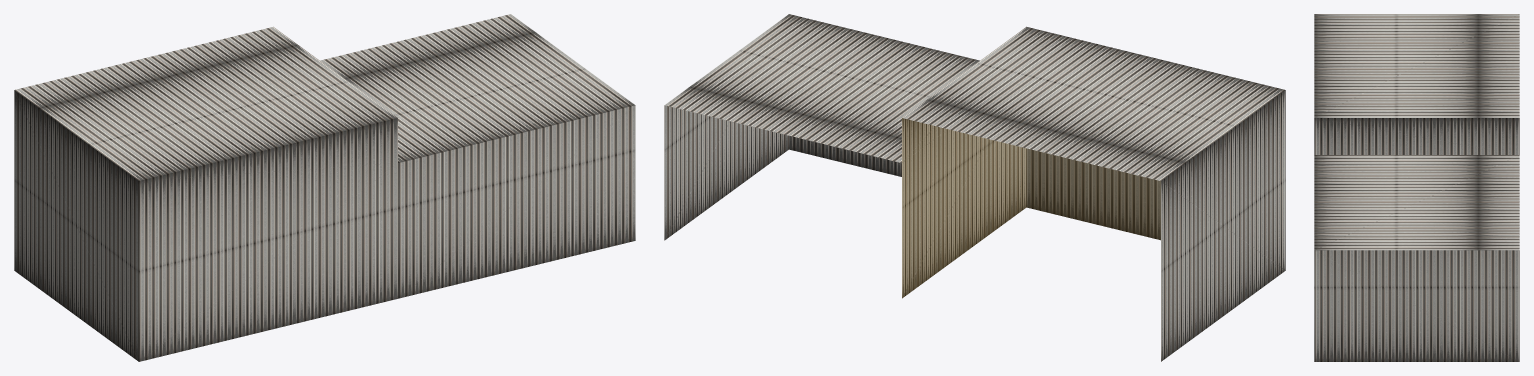
The model's file is ChimNirSmallHangars_LOD0.gltf.
3 views of the same model, side by side, from view 1: azimuth 30°, elevation 25°; view 2: azimuth 150°, elevation 25°; view 3: azimuth 270°, elevation 25° (orthographic). The views are drawn at different scales.
Visible parts, largest first — view 1: node1; view 2: node1; view 3: node1.
Part boxes in pixels (x1,y1,x2,y2): node1: (14,14,635,361); node1: (664,14,1285,361); node1: (1314,14,1519,361).
Size of the model in its own units: 11.5 by 4 by 5.
